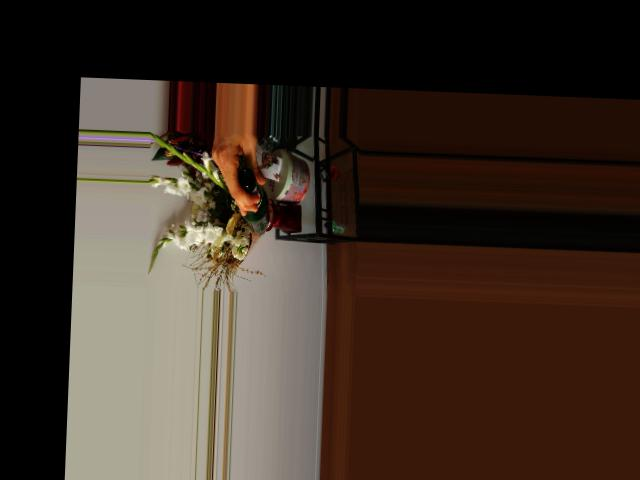beer: (237, 167, 272, 233)
